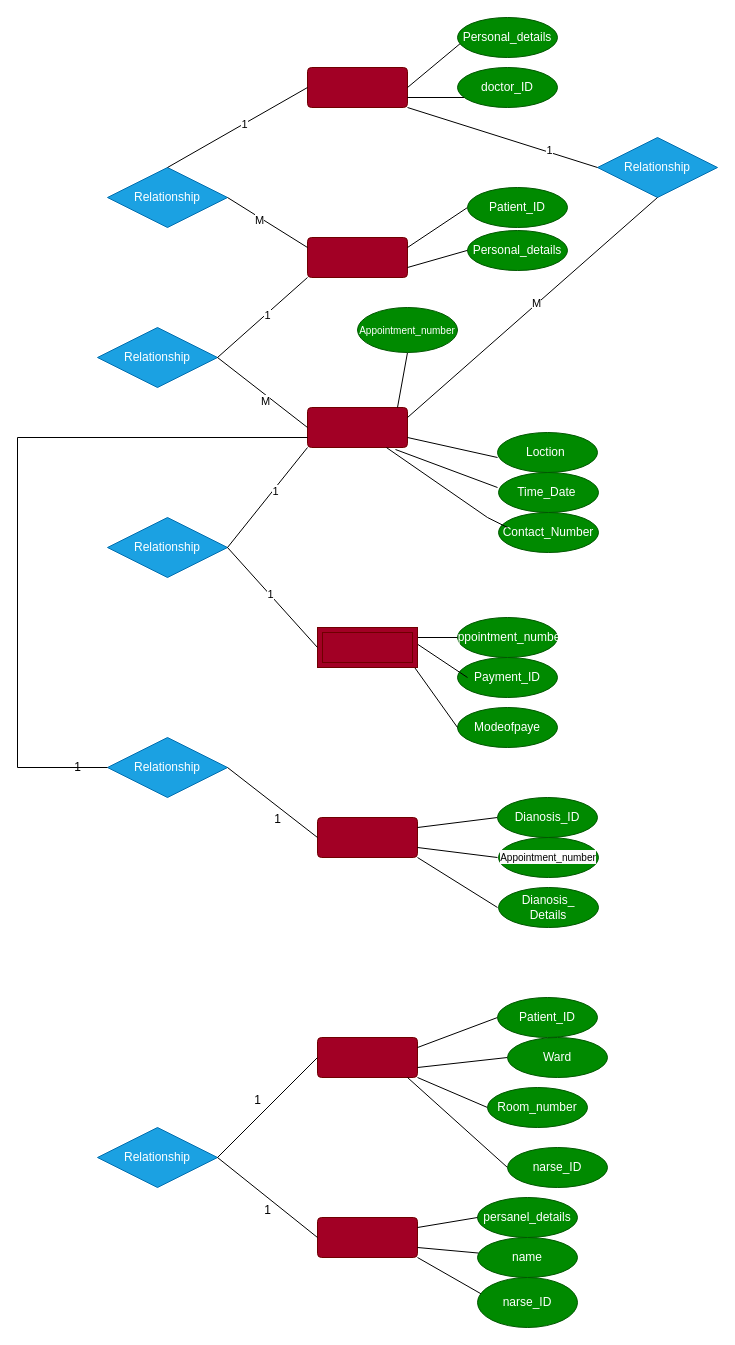
Some shapes in this 735 by 1345 pixel diagram are drawn without their labels. The shapes that lost their labels are listed below. From the top down, each one's centre as x and y in pixels, then its label:
the point at 357,87: Docter
the point at 357,257: Patient
the point at 357,427: Appointment
the point at 367,647: Payment
the point at 367,837: Dianosis
the point at 367,1057: Admited patient
the point at 367,1237: Nurse
